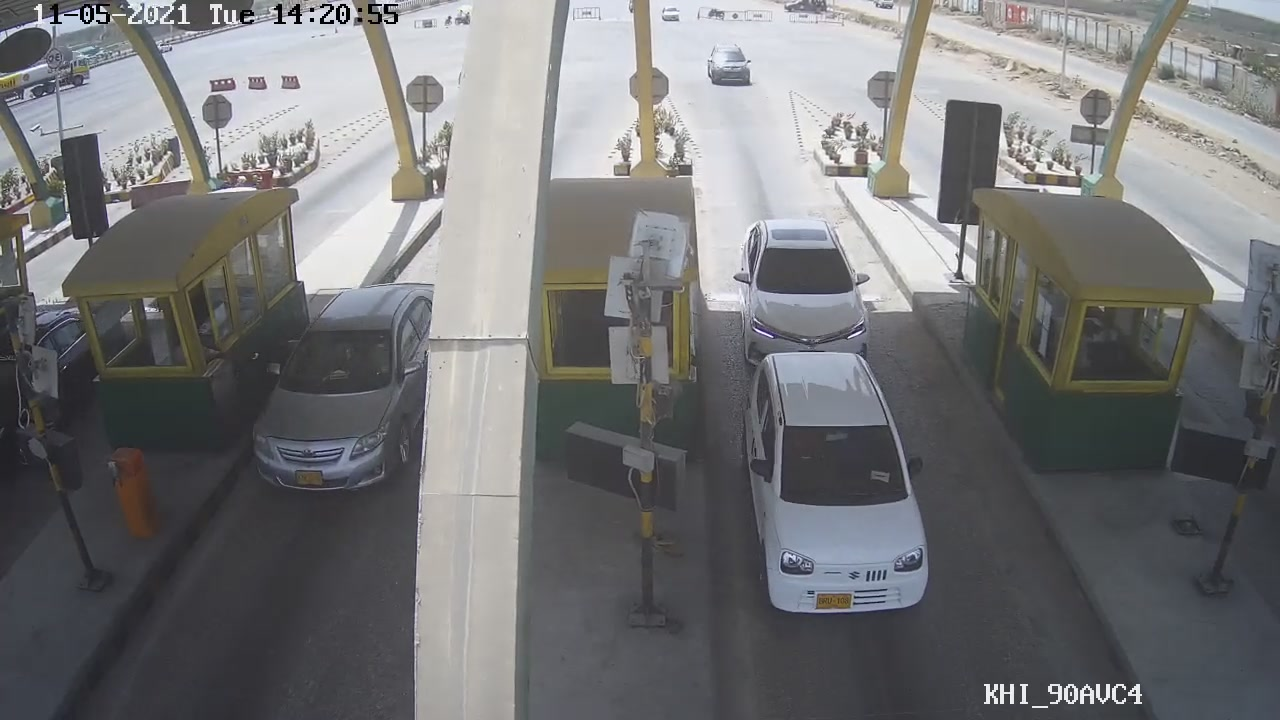F1: (739, 347, 932, 615)
